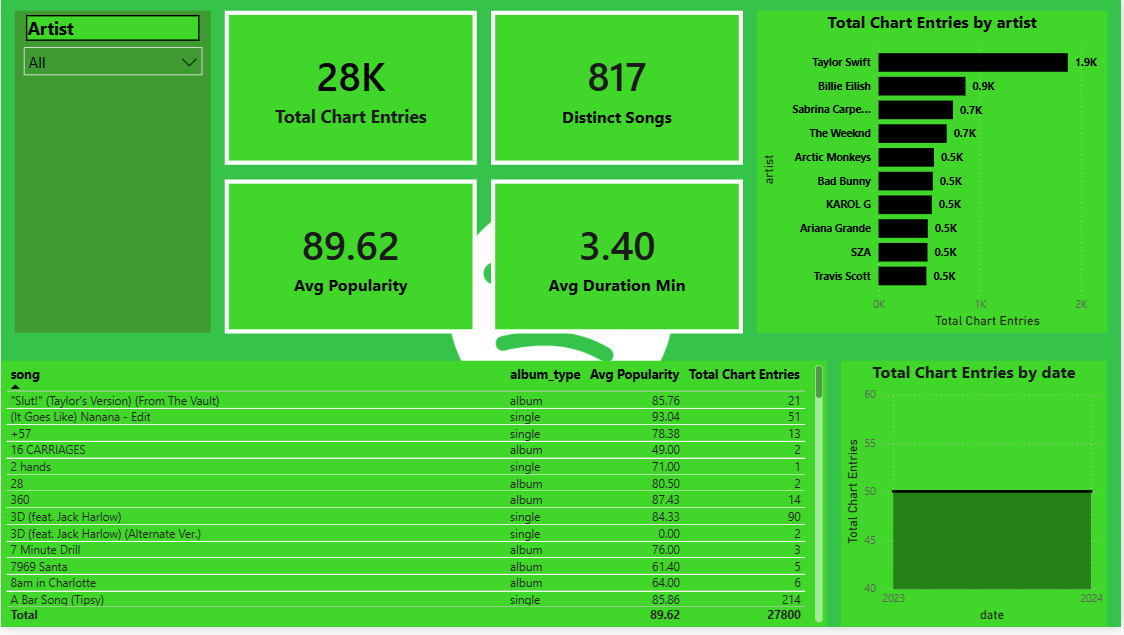

This screenshot's page, from the dashboard's own definition file:
{"tool":"powerbi","page":{"name":"Artists","canvas":[1280,720],"ordinal":2},"visuals":[{"type":"cardVisual","fields":{"Data":["_Measures.Total Chart Entries"]},"box":[256,16,288,176],"z":0},{"type":"cardVisual","fields":{"Data":["_Measures.Avg Duration Min"]},"box":[560,208,288,176],"z":1},{"type":"cardVisual","fields":{"Data":["_Measures.Distinct Songs"]},"box":[560,16,288,176],"z":3},{"type":"cardVisual","fields":{"Data":["_Measures.Avg Popularity"]},"box":[256,208,288,176],"z":4},{"type":"areaChart","fields":{"Category":["dim_dates.date"],"Y":["_Measures.Total Chart Entries"]},"box":[960,416,304,304],"z":5},{"type":"clusteredBarChart","fields":{"Category":["dim_songs.artist"],"Y":["_Measures.Total Chart Entries"]},"box":[864,16,400,368],"z":6},{"type":"tableEx","fields":{"Values":["dim_songs.song","dim_songs.album_type","_Measures.Avg Popularity","_Measures.Total Chart Entries"]},"box":[0,416,944,304],"z":7},{"type":"slicer","fields":{"Values":["dim_songs.artist"]},"box":[16,16,224,368],"z":8}]}

Visuals, with their boxes in screenshot pixels (x1, y1, x2, y2), scaled from the page's 1280x720 canvas onto the 1124x635 screenshot:
cardVisual - _Measures.Total Chart Entries: 225/14/478/169
cardVisual - _Measures.Avg Duration Min: 492/183/745/339
cardVisual - _Measures.Distinct Songs: 492/14/745/169
cardVisual - _Measures.Avg Popularity: 225/183/478/339
areaChart - dim_dates.date x _Measures.Total Chart Entries: 843/367/1110/634
clusteredBarChart - dim_songs.artist x _Measures.Total Chart Entries: 759/14/1110/339
tableEx - dim_songs.song x dim_songs.album_type: 0/367/829/634
slicer - dim_songs.artist: 14/14/211/339
